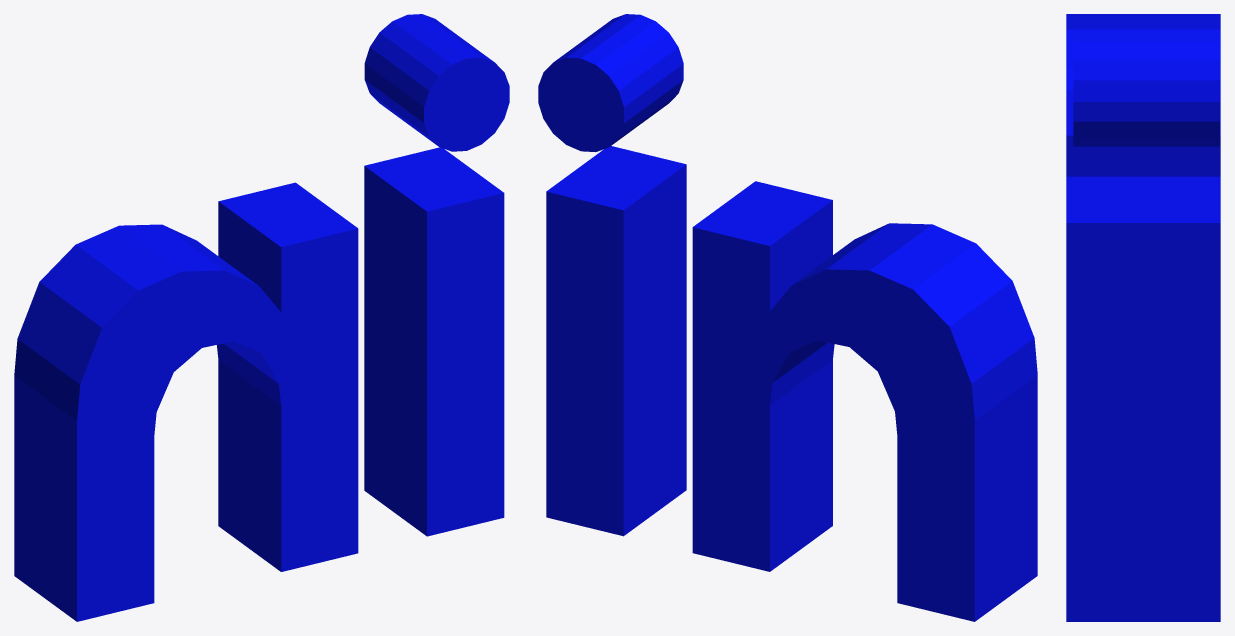
Rendered from linkdin.glb.
3 renders of one model, left to right at view 1: azimuth 30°, elevation 25°; view 2: azimuth 150°, elevation 25°; view 3: azimuth 270°, elevation 25°, orthographic. The views are drawn at different scales.
Parts seen in each view (by area): view 1: LinkedinLogo; view 2: LinkedinLogo; view 3: LinkedinLogo.
Boxes of the visible parts, left/top/right/bottom form: LinkedinLogo: left=14, top=14, right=509, bottom=621; LinkedinLogo: left=538, top=14, right=1037, bottom=621; LinkedinLogo: left=1066, top=14, right=1220, bottom=621.
Size of the model in its own units: 8.89 by 9.09 by 2.22.
